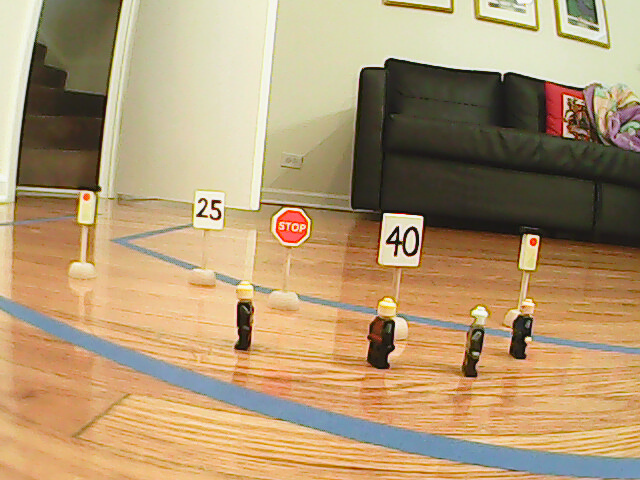Person: (366, 298, 397, 373), (459, 306, 490, 378), (234, 282, 256, 352), (511, 300, 534, 358)
Red Traffic Light: (518, 224, 538, 275), (77, 184, 98, 226)
Speed Limit 25: (193, 192, 225, 232)
Speed Limit 40: (379, 210, 422, 270)
Stop Sign: (268, 204, 314, 251)
